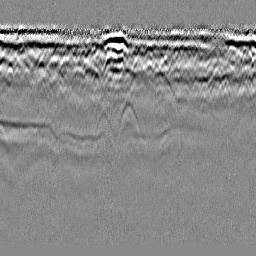cavity: (115, 98, 142, 142)
